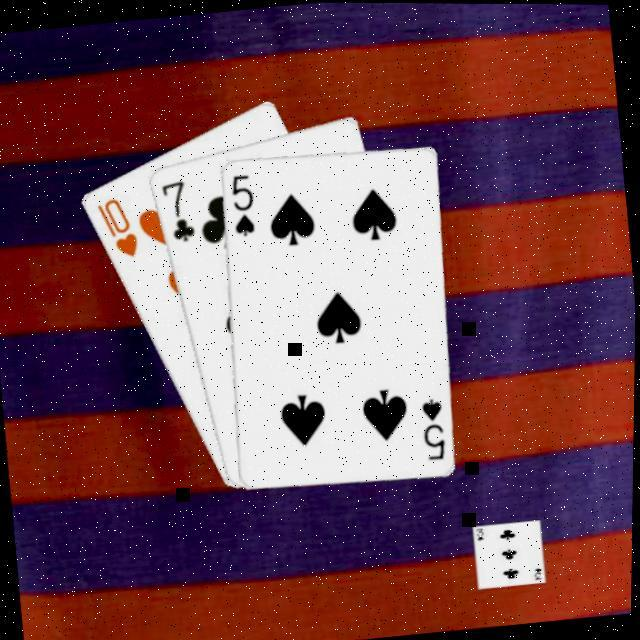10H: (92, 193, 144, 263)
5S: (226, 169, 262, 240), (417, 393, 451, 463)
7C: (156, 176, 200, 247)
